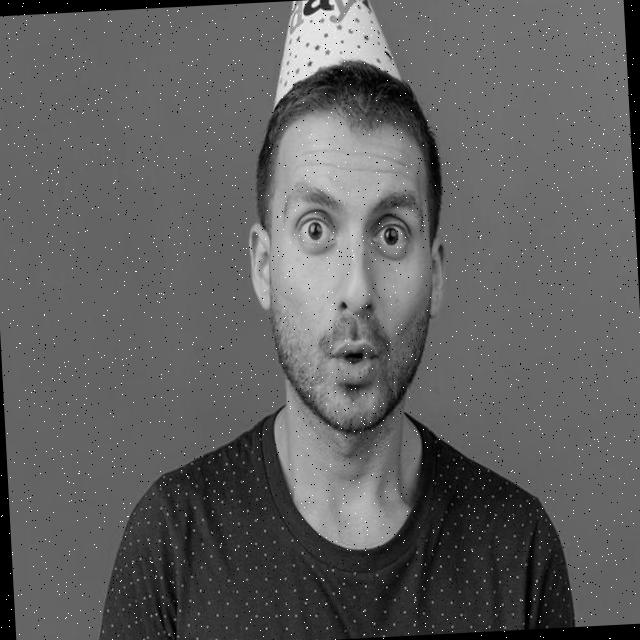Surprised: (261, 111, 442, 438)
